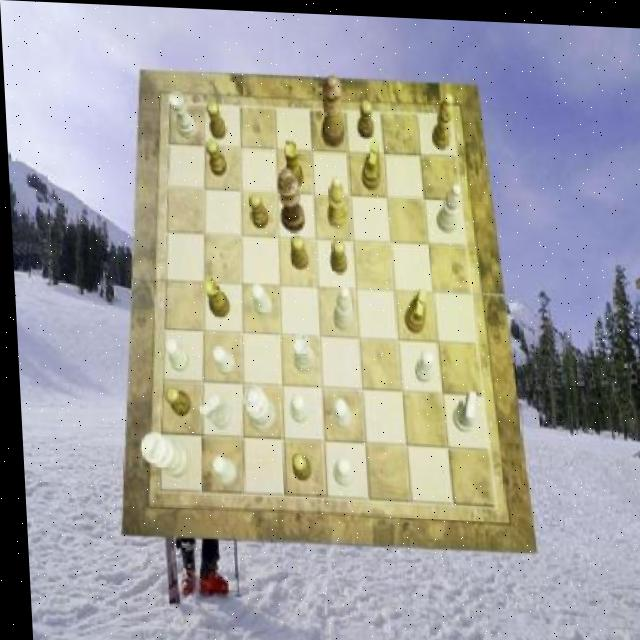bishop: (428, 89, 453, 147), (323, 172, 344, 225)
black-bishop: (274, 165, 303, 230)
black-king: (400, 284, 425, 331), (358, 137, 380, 189)
black-knight: (204, 136, 225, 174), (205, 98, 225, 137), (354, 97, 373, 136), (160, 387, 186, 415), (248, 190, 267, 227), (326, 236, 345, 271), (287, 233, 306, 268), (286, 451, 307, 479)
black-pawn: (316, 72, 342, 146)
black-queen: (200, 276, 226, 316), (283, 139, 302, 187)
black-rook: (433, 179, 461, 229), (328, 282, 350, 328)
white-bishop: (134, 430, 185, 478)
white-king: (447, 386, 474, 428), (195, 391, 226, 427)
white-knight: (159, 336, 184, 370), (410, 344, 432, 379), (208, 455, 232, 484), (248, 282, 269, 315), (208, 346, 232, 374), (329, 395, 348, 427), (327, 456, 347, 484), (284, 393, 303, 421)
white-pawn: (236, 381, 271, 430)
white-queen: (166, 89, 194, 136), (289, 331, 312, 370)
